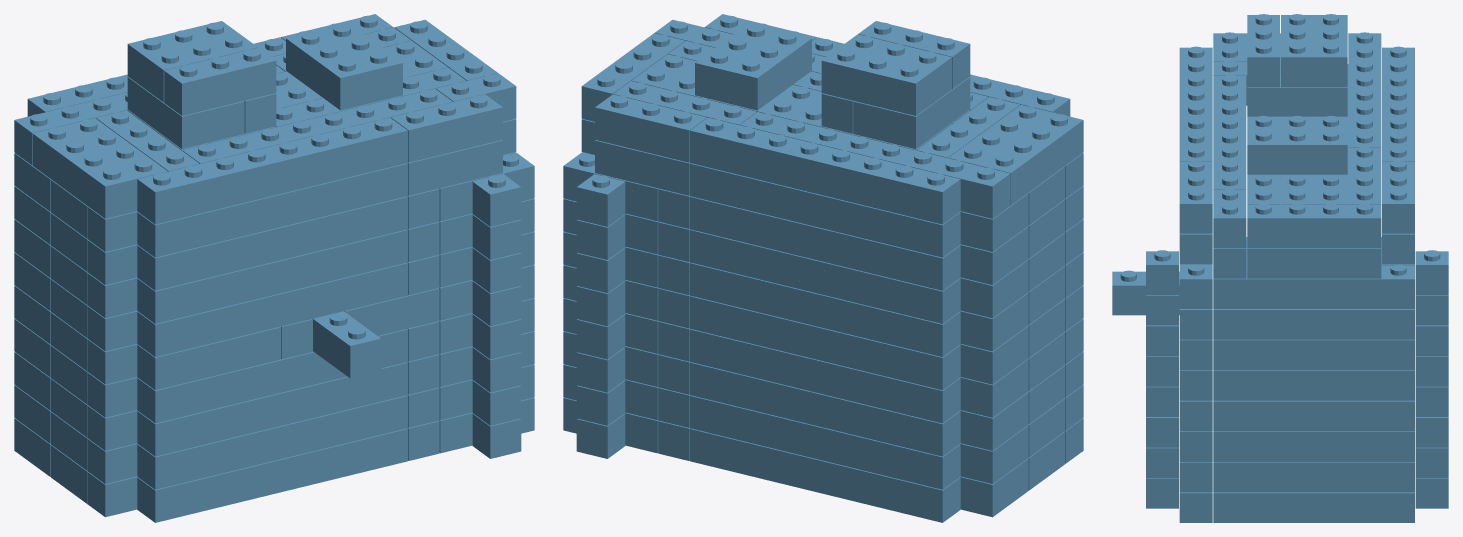
The model's file is brickmore__camera-L3-C1__raw.glb.
3 renders of one model, left to right at view 1: azimuth 30°, elevation 25°; view 2: azimuth 150°, elevation 25°; view 3: azimuth 270°, elevation 25°, orthographic. The views are drawn at different scales.
Size of the model in its own units: 12.98 by 12.13 by 9.98.
